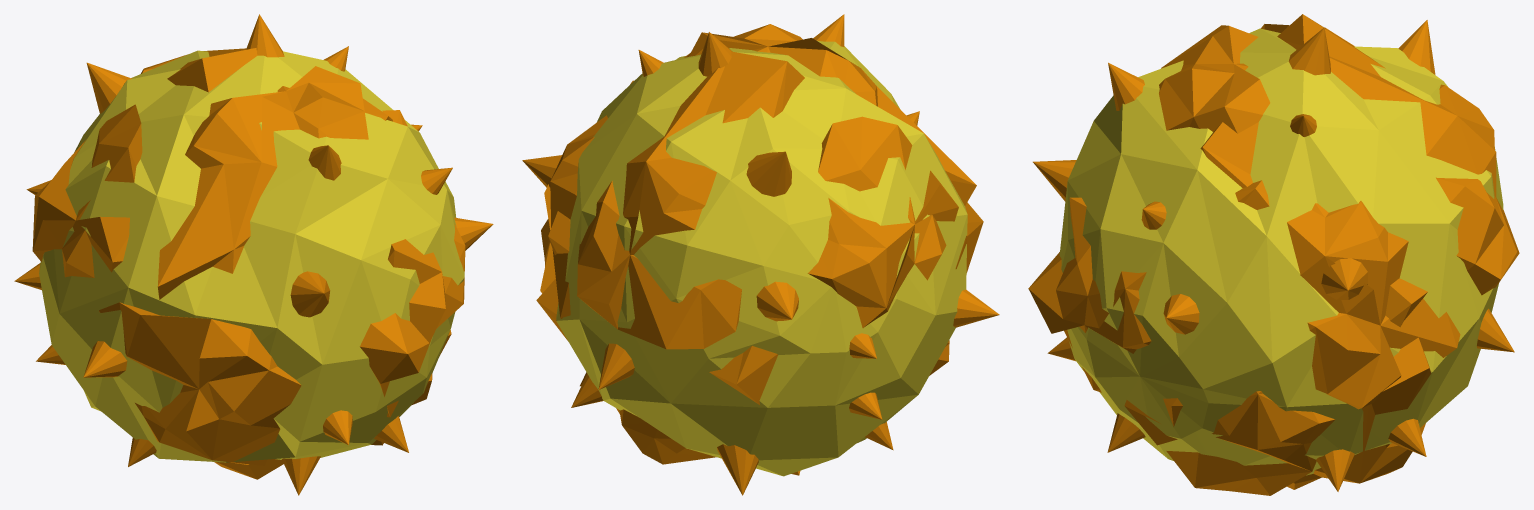
Rendered from sun_new.gltf.
3 renders of one model, left to right at view 1: azimuth 30°, elevation 25°; view 2: azimuth 150°, elevation 25°; view 3: azimuth 270°, elevation 25°, orthographic. The views are drawn at different scales.
Parts seen in each view (by area): view 1: node_MeshObject-1652939904-PolyPaper13; view 2: node_MeshObject-1652939904-PolyPaper13; view 3: node_MeshObject-1652939904-PolyPaper13.
Part boxes in pixels (left/top/right/bottom): node_MeshObject-1652939904-PolyPaper13: left=14, top=14, right=493, bottom=495; node_MeshObject-1652939904-PolyPaper13: left=522, top=14, right=999, bottom=495; node_MeshObject-1652939904-PolyPaper13: left=1028, top=14, right=1519, bottom=495.
Size of the model in its own units: 2.19 by 2.23 by 2.15.
